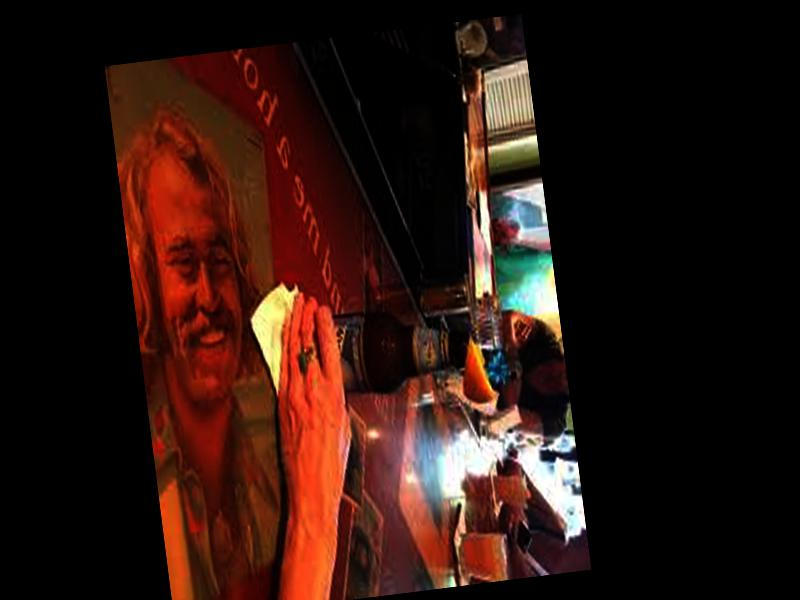Beer: (279, 295, 477, 400)
